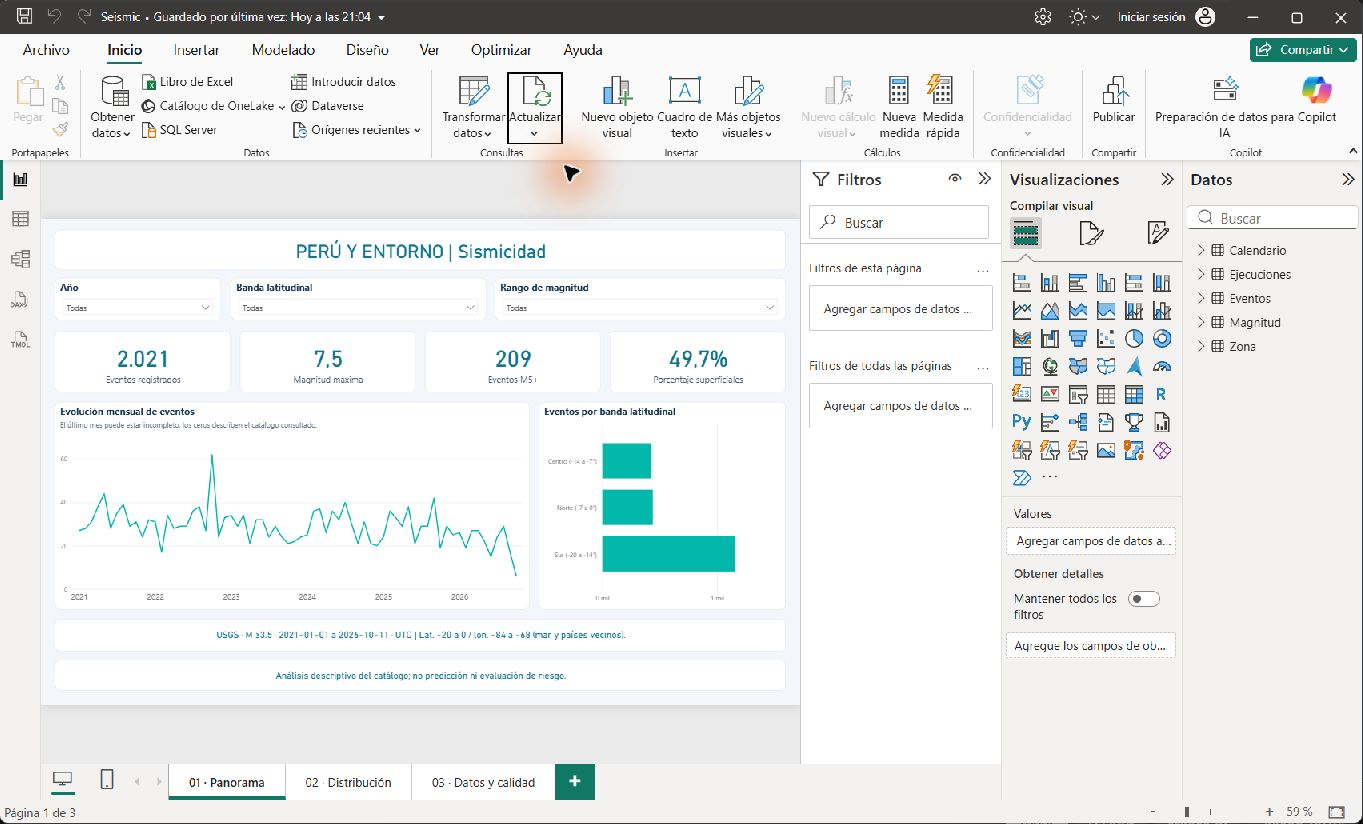

Layout of this report page (visuals, bound fields, positions):
{"tool":"powerbi","page":{"name":"01 · Panorama","canvas":[1280,820],"ordinal":0},"visuals":[{"type":"card","fields":{"Values":["Eventos.Título panorama"]},"box":[24,18,1232,68],"z":12},{"type":"slicer","title":"Año","fields":{"Values":["Calendario.year"]},"box":[24,100,280,72],"z":12},{"type":"slicer","title":"Banda latitudinal","fields":{"Values":["Zona.zone"]},"box":[320,100,430,72],"z":12},{"type":"slicer","title":"Rango de magnitud","fields":{"Values":["Magnitud.magnitude_band"]},"box":[766,100,490,72],"z":12},{"type":"card","fields":{"Values":["Eventos.Eventos registrados"]},"box":[24,188,296,104],"z":12},{"type":"card","fields":{"Values":["Eventos.Magnitud máxima"]},"box":[336,188,296,104],"z":12},{"type":"card","fields":{"Values":["Eventos.Eventos M5+"]},"box":[648,188,296,104],"z":12},{"type":"card","fields":{"Values":["Eventos.Porcentaje superficiales"]},"box":[960,188,296,104],"z":12},{"type":"lineChart","title":"Evolución mensual de eventos","fields":{"Category":["Calendario.month_start"],"Y":["Eventos.Eventos registrados"]},"box":[24,308,800,350],"z":12},{"type":"barChart","title":"Eventos por banda latitudinal","fields":{"Category":["Zona.zone"],"Y":["Eventos.Eventos registrados"]},"box":[840,308,416,350],"z":12},{"type":"card","fields":{"Values":["Eventos.Nota de alcance"]},"box":[24,675,1232,55],"z":12},{"type":"card","fields":{"Values":["Eventos.Nota científica"]},"box":[24,744,1232,52],"z":12}]}

Visuals, with their boxes on the page's 1280x820 design canvas (x1, y1, x2, y2). These are canvas units, not pixel positions in the 1363x824 screenshot, which may show the page scaled, cropped or inside an application window:
card - Eventos.Título panorama: (24, 18, 1256, 86)
"Año" slicer: (24, 100, 304, 172)
"Banda latitudinal" slicer: (320, 100, 750, 172)
"Rango de magnitud" slicer: (766, 100, 1256, 172)
card - Eventos.Eventos registrados: (24, 188, 320, 292)
card - Eventos.Magnitud máxima: (336, 188, 632, 292)
card - Eventos.Eventos M5+: (648, 188, 944, 292)
card - Eventos.Porcentaje superficiales: (960, 188, 1256, 292)
"Evolución mensual de eventos" lineChart: (24, 308, 824, 658)
"Eventos por banda latitudinal" barChart: (840, 308, 1256, 658)
card - Eventos.Nota de alcance: (24, 675, 1256, 730)
card - Eventos.Nota científica: (24, 744, 1256, 796)
